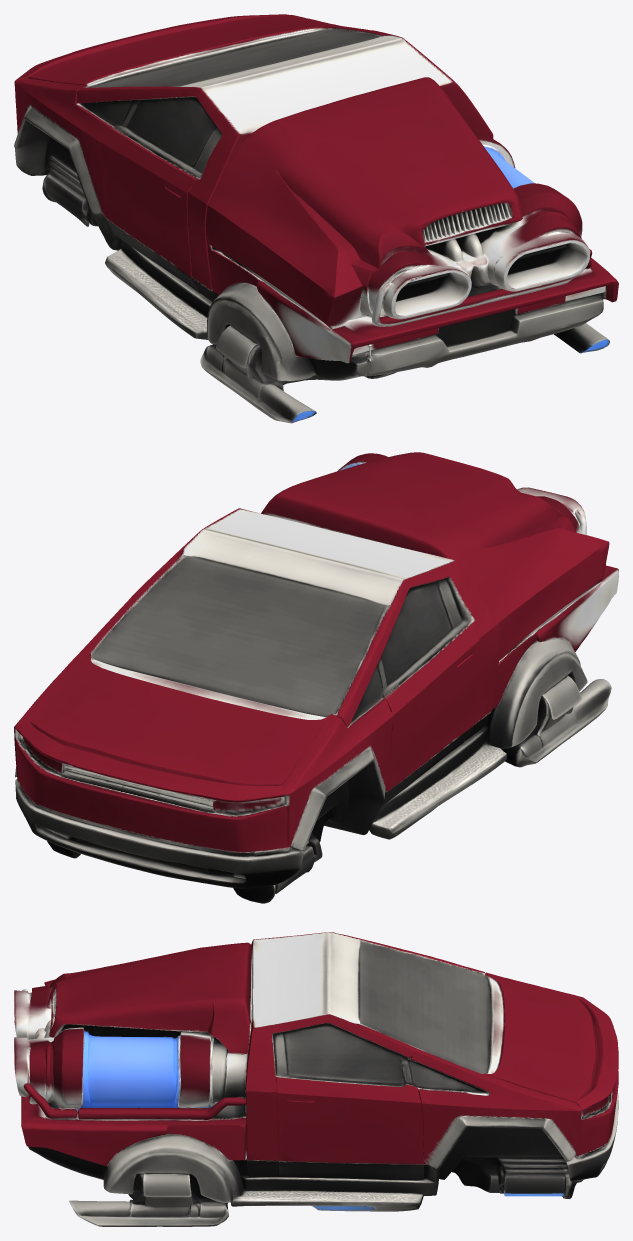
File: sandboxer_crimson.glb
3 renders of one model, top to bottom at view 1: azimuth 30°, elevation 25°; view 2: azimuth 150°, elevation 25°; view 3: azimuth 270°, elevation 25°, orthographic. The views are drawn at different scales.
Visible parts, largest first — view 1: model; view 2: model; view 3: model.
Part boxes in pixels (x1,y1,x2,y2): model: [14, 14, 618, 423]; model: [14, 452, 618, 903]; model: [14, 932, 618, 1226].
Bounding box in the file's own units: 2.7 × 1.75 × 4.96.
1 material, 1 textured.
